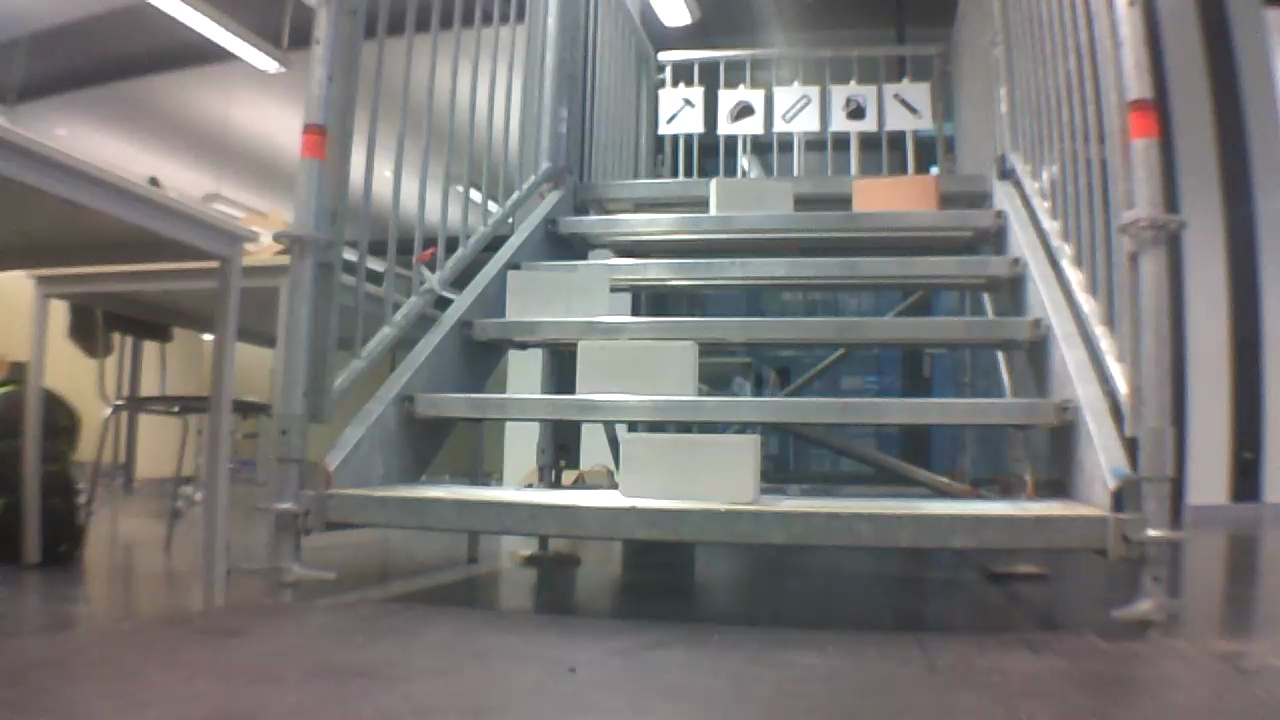brick: (618, 433, 759, 503), (576, 340, 698, 396), (507, 270, 609, 315), (708, 177, 792, 213), (855, 177, 937, 212)
bucket: (838, 89, 869, 123)
edge: (323, 492, 1110, 552), (401, 394, 1079, 423), (462, 318, 1049, 340), (513, 257, 1022, 276), (549, 211, 1004, 230), (574, 175, 994, 194)
hammer: (664, 91, 697, 128)
pencil: (890, 89, 929, 124)
ruler: (778, 92, 811, 126)
stairs: (273, 1, 1181, 639)
steps: (315, 167, 1117, 566)
taco: (725, 97, 758, 127)
